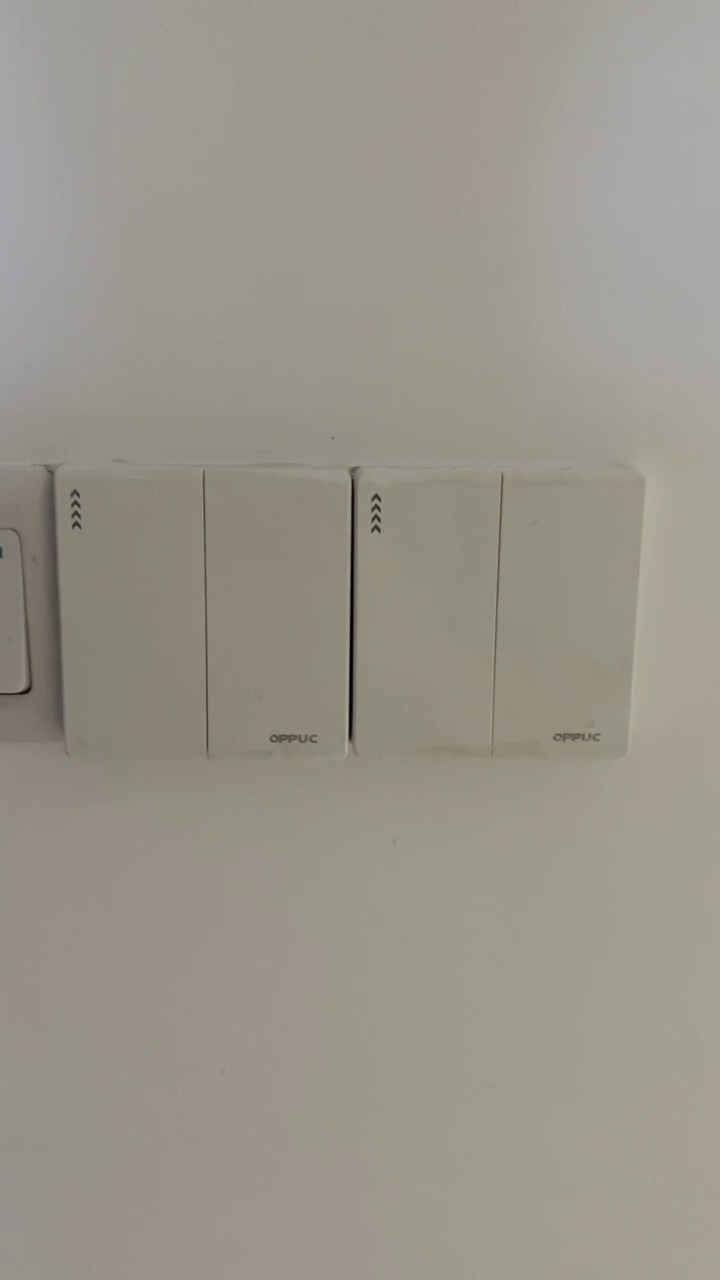button1: (55, 471, 202, 751), (207, 470, 347, 757), (359, 471, 496, 757), (498, 477, 638, 753)
